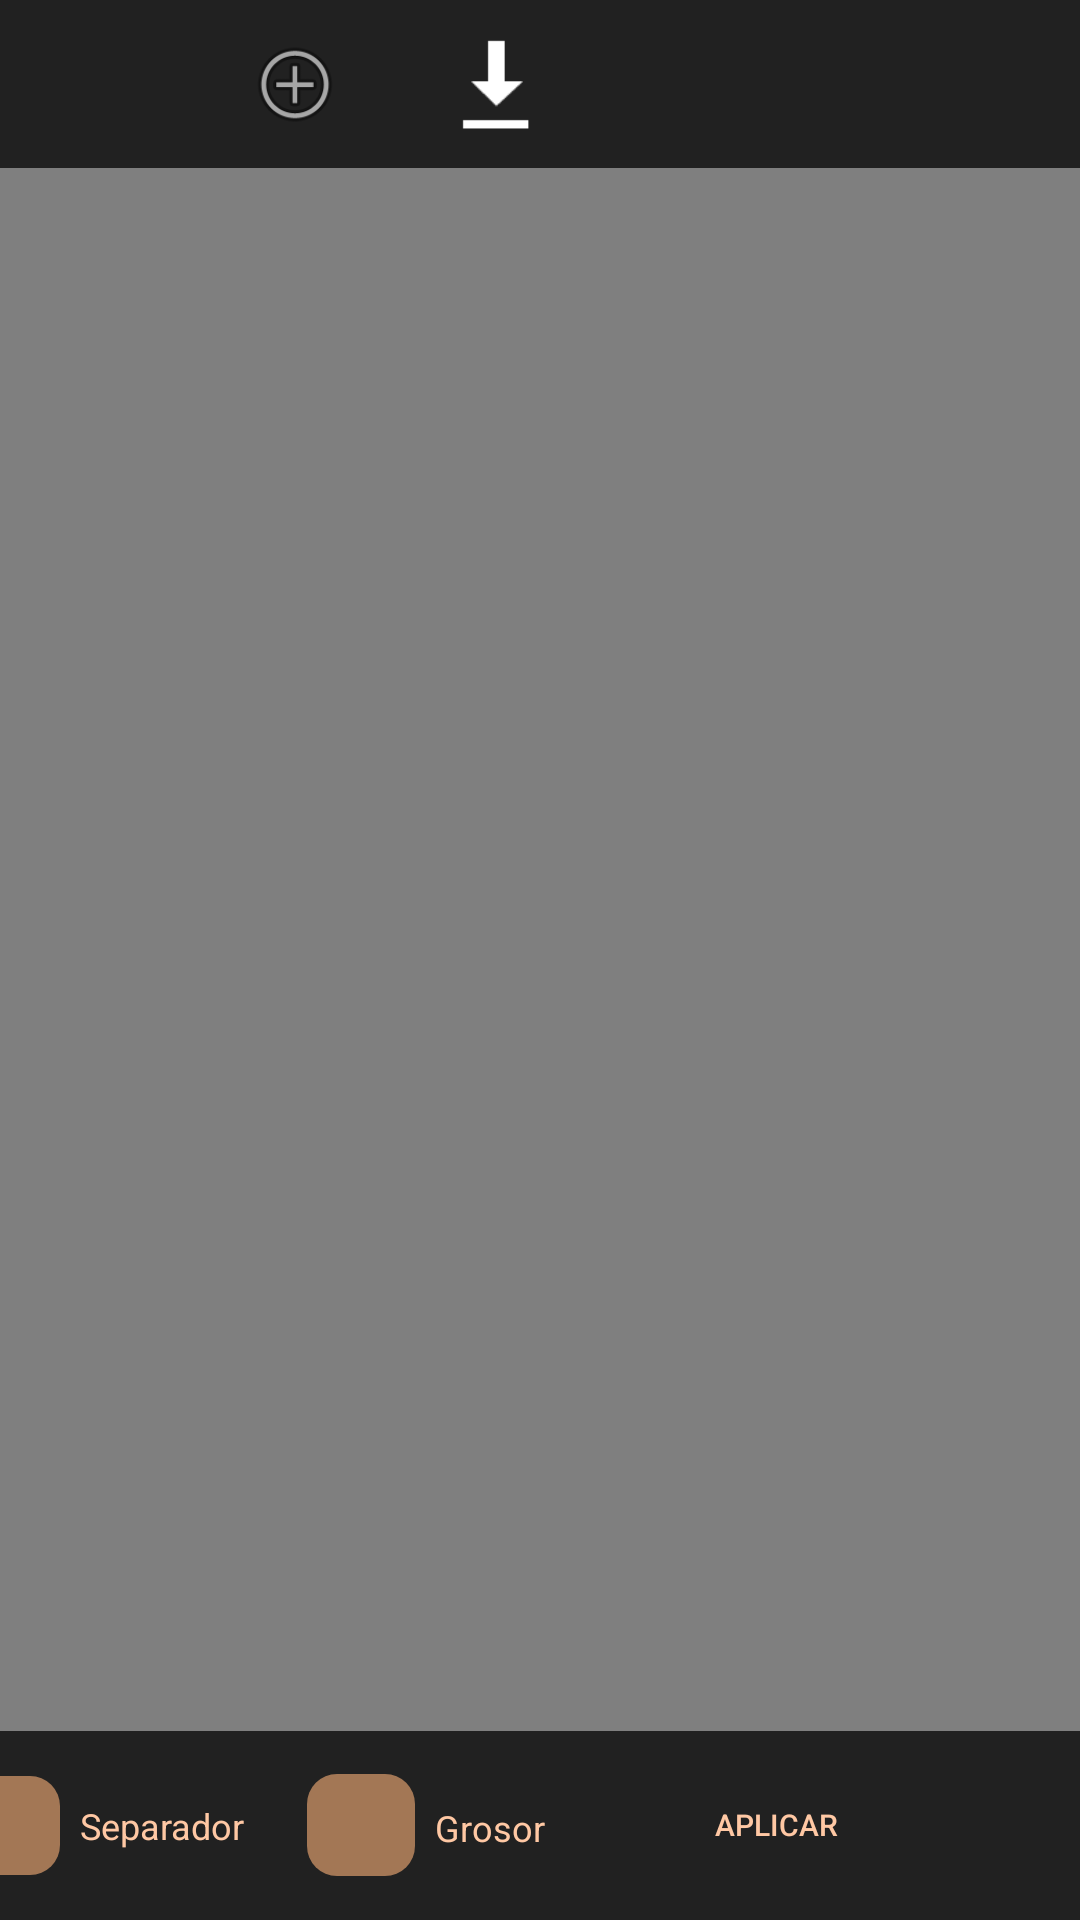

Icons on this 1080*1920 Android screen, each with the point to tap as (x,y):
add: (295,85)
download: (496,84)
